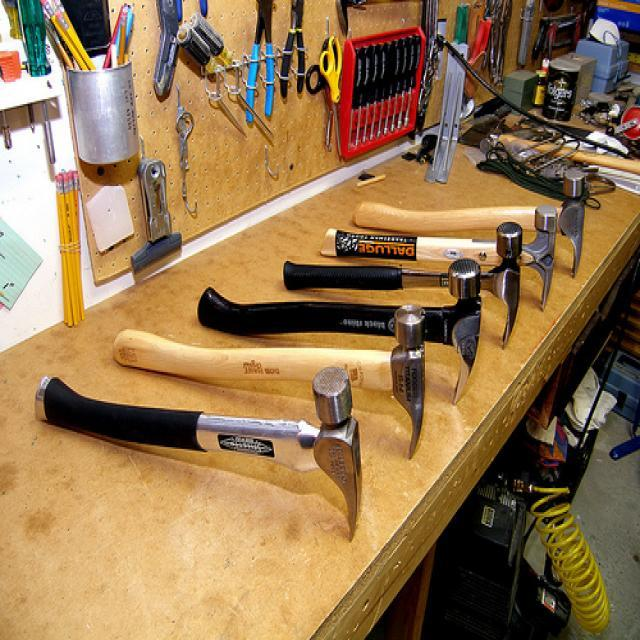hammer: (29, 358, 368, 552), (99, 301, 433, 465), (188, 248, 490, 414), (281, 220, 526, 358), (316, 190, 570, 317), (351, 158, 590, 292)
